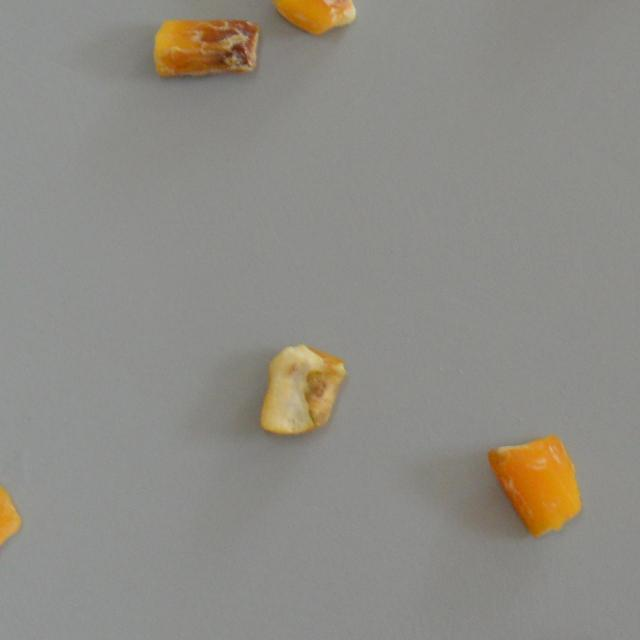dañado: (484, 434, 586, 542), (256, 336, 350, 442), (146, 6, 262, 88), (270, 0, 364, 42), (0, 462, 24, 572)
